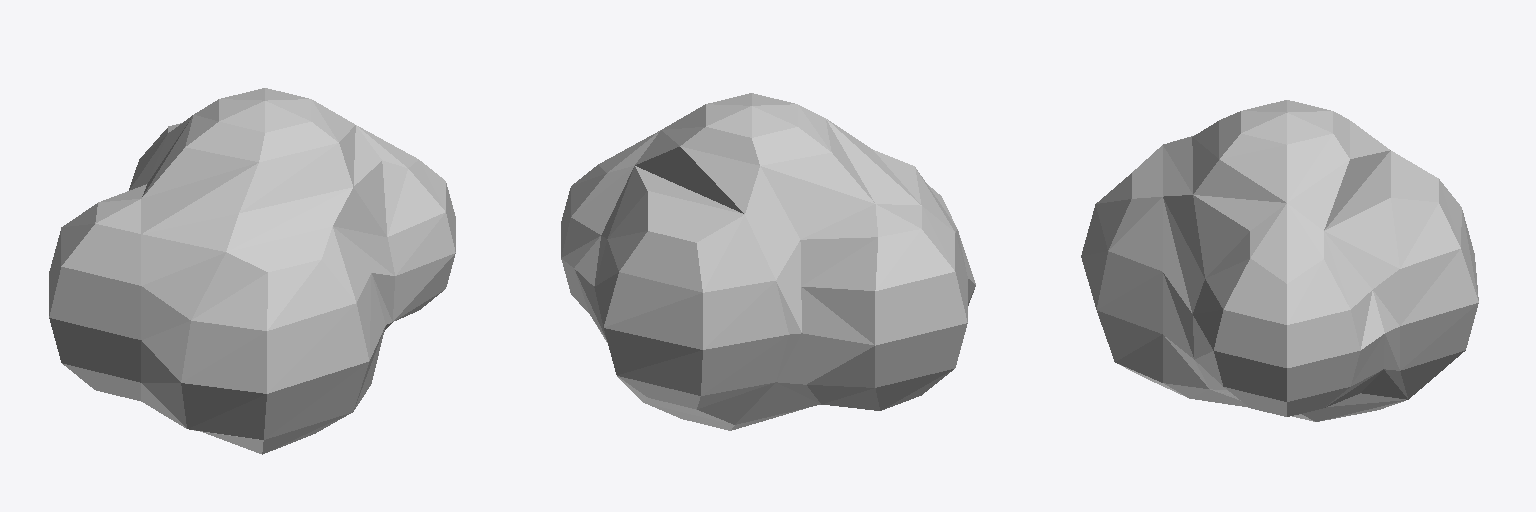
Rendered from CloudTwo.obj.
3 renders of one model, left to right at view 1: azimuth 30°, elevation 25°; view 2: azimuth 150°, elevation 25°; view 3: azimuth 270°, elevation 25°, orthographic.
Parts seen in each view (by area): view 1: polySurface2; view 2: polySurface2; view 3: polySurface2.
Boxes of the visible parts, x1=… form: polySurface2: x1=49, y1=88, x2=455, y2=454; polySurface2: x1=561, y1=93, x2=975, y2=430; polySurface2: x1=1081, y1=100, x2=1478, y2=421.
Bounding box in the file's own units: 4.4 × 3.1 × 3.73.